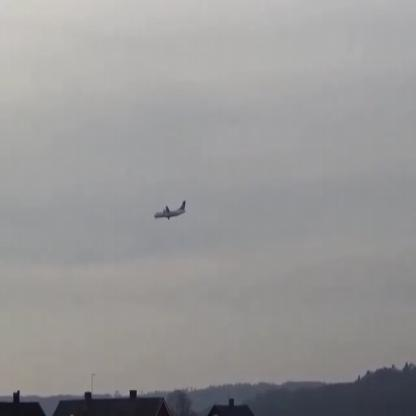CIV_Plane: (154, 200, 186, 220)
